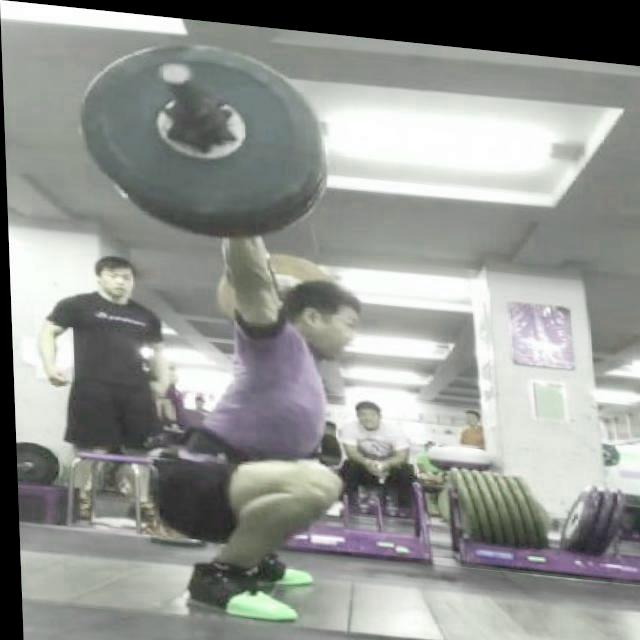barbell: (70, 18, 327, 230)
